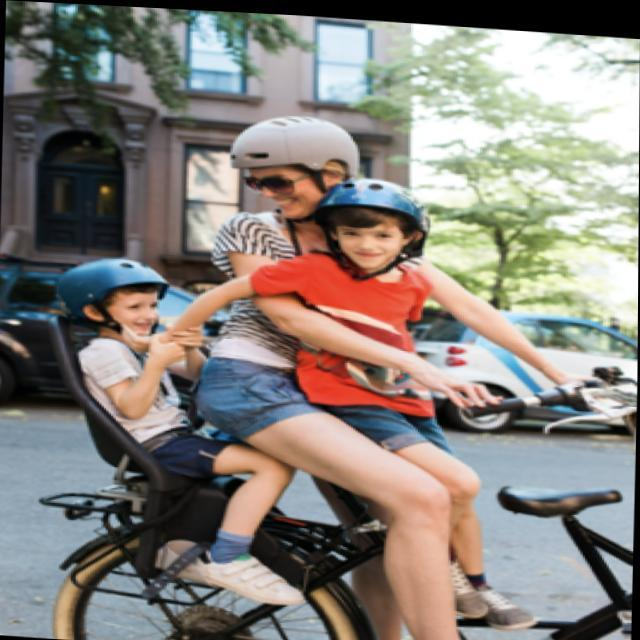Helmet: (219, 104, 364, 230), (306, 170, 441, 276), (54, 246, 178, 351)
